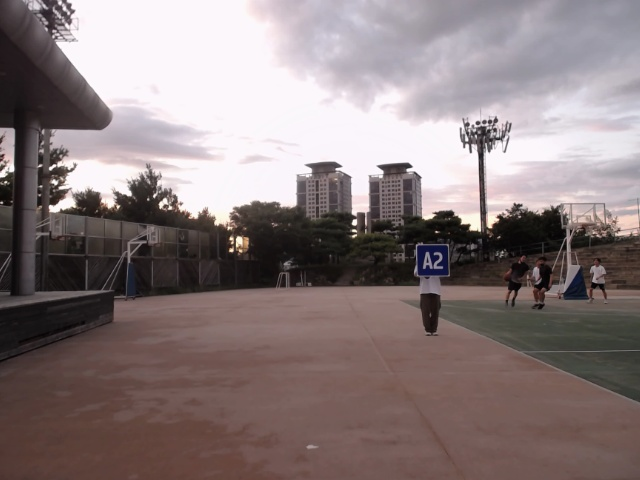delivery_a2: (416, 245, 449, 277)
